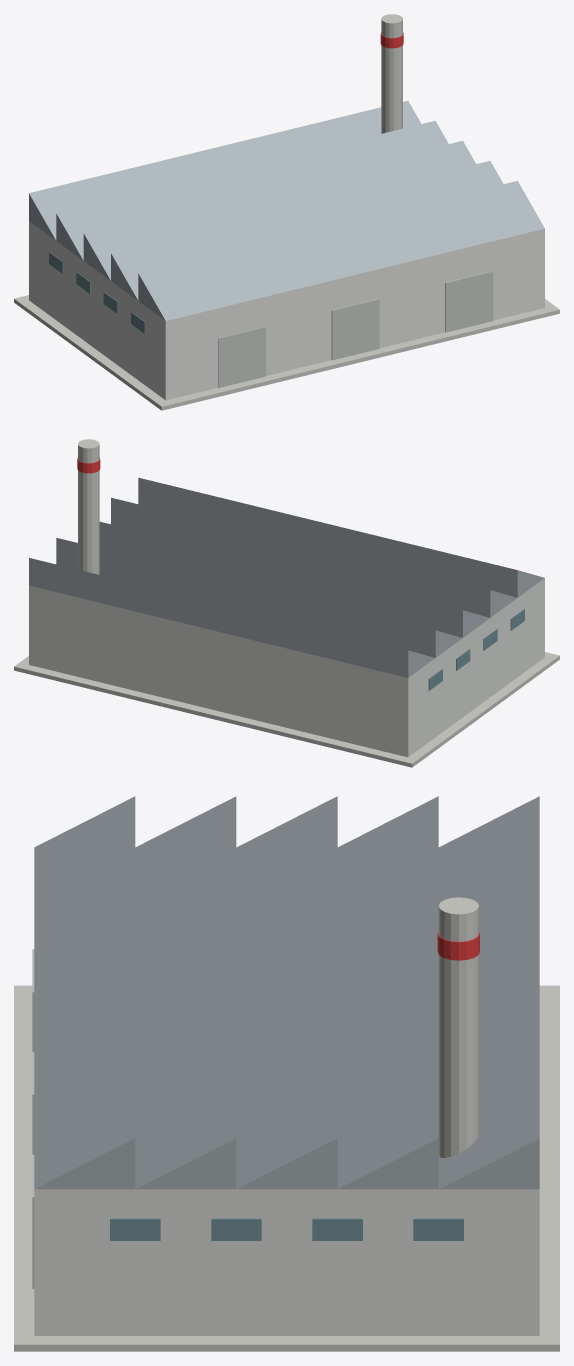
File: factory.glb
3 views of the same model, one above another, from view 1: azimuth 30°, elevation 25°; view 2: azimuth 150°, elevation 25°; view 3: azimuth 270°, elevation 25° (orthographic). The views are drawn at different scales.
Parts seen in each view (by area): view 1: roof, walls, chimney; view 2: roof, walls, chimney; view 3: roof, walls, chimney.
Boxes of the visible parts, x1,y1,x2,y2 form: roof: [29, 100, 544, 320]; walls: [14, 221, 559, 410]; chimney: [380, 14, 403, 133]; roof: [29, 477, 544, 677]; walls: [14, 578, 559, 767]; chimney: [77, 439, 100, 574]; roof: [34, 796, 539, 1189]; walls: [14, 949, 559, 1351]; chimney: [437, 897, 479, 1157].
Size of the model in its own units: 42 by 22 by 27.
